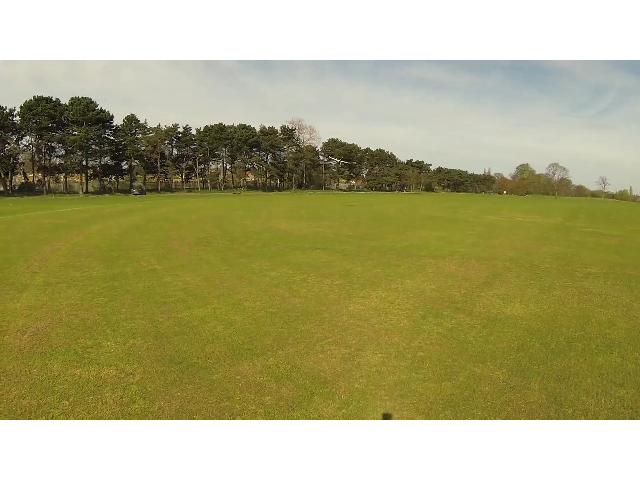Anti-Drone: (324, 151, 354, 172)
